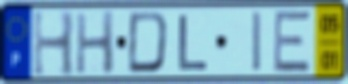D: (125, 9, 171, 76)
E: (271, 9, 314, 75)
H: (31, 8, 77, 79), (74, 9, 117, 77)
I: (250, 9, 263, 75)
L: (176, 13, 211, 73)
